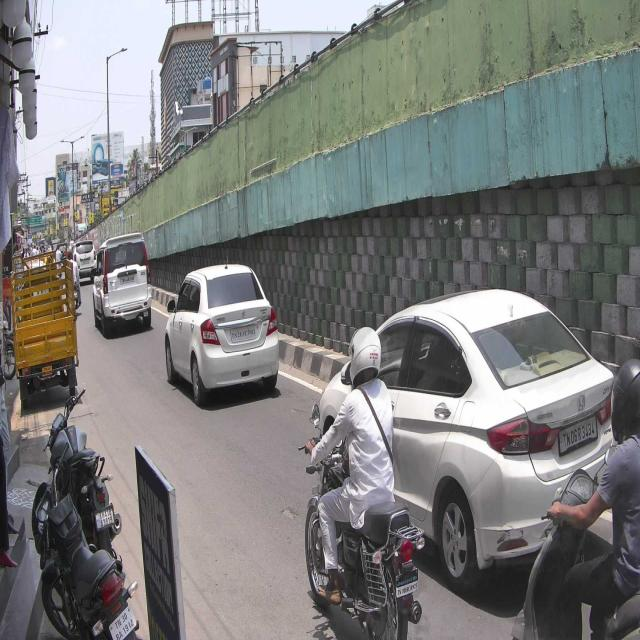single_rider: (298, 324, 425, 640)
